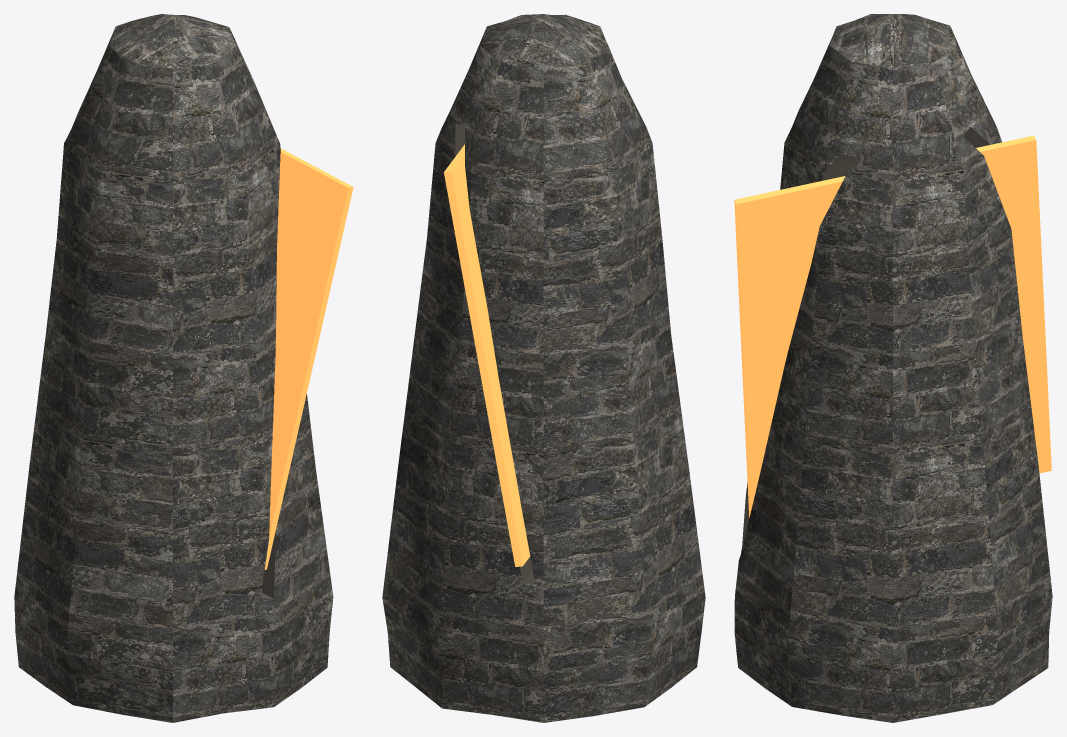
File: cracked-ceremonial-stone-v01.glb
3 views of the same model, side by side, from view 1: azimuth 30°, elevation 25°; view 2: azimuth 150°, elevation 25°; view 3: azimuth 270°, elevation 25° (orthographic).
Visible parts, largest first — view 1: cracked-ceremonial-stone; view 2: cracked-ceremonial-stone; view 3: cracked-ceremonial-stone.
Part boxes in pixels (bbox=[...]): cracked-ceremonial-stone: bbox=[14, 14, 353, 722]; cracked-ceremonial-stone: bbox=[382, 14, 705, 722]; cracked-ceremonial-stone: bbox=[734, 14, 1052, 722].
Bounding box in the file's own units: 1.21 × 2.72 × 1.22.
Materials: 2 (1 with a texture image).
